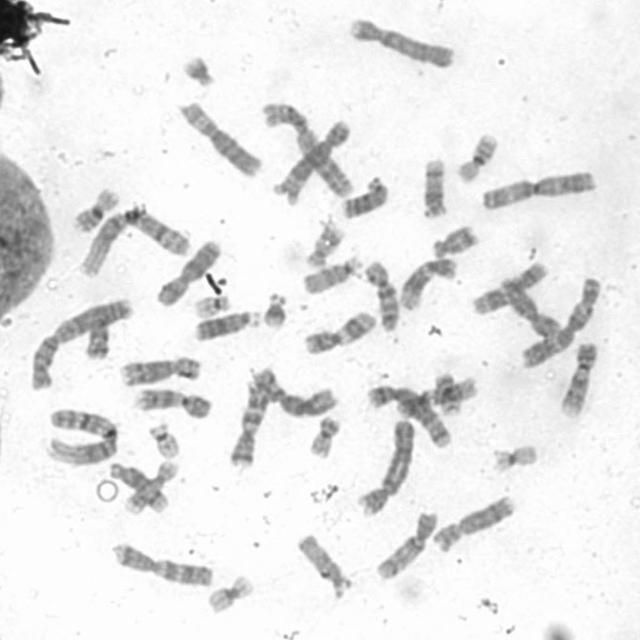A1: (73, 202, 192, 279), (42, 403, 121, 466)
A2: (26, 293, 135, 392), (258, 97, 356, 199)
A3: (517, 271, 604, 369), (476, 163, 600, 212)
B4: (344, 12, 458, 71), (354, 414, 417, 517)
B5: (271, 111, 356, 202), (362, 378, 454, 449)
C10: (371, 504, 442, 582), (358, 254, 402, 334)
C11: (468, 256, 550, 316), (300, 304, 380, 356)
C12: (393, 370, 481, 420), (396, 252, 461, 311)
C6: (176, 94, 266, 178), (247, 364, 341, 419)
C7: (224, 362, 279, 470), (107, 537, 216, 588)
C8: (429, 490, 519, 554), (116, 350, 204, 388)
C9: (556, 336, 601, 418), (130, 382, 213, 420)
D13: (190, 304, 263, 342), (337, 170, 391, 220)
D14: (104, 458, 171, 514), (419, 153, 450, 220)
D15: (293, 528, 350, 598), (298, 248, 366, 296)
E16: (68, 182, 122, 234), (453, 127, 501, 184)
E17: (119, 455, 182, 516), (300, 217, 346, 269)
E18: (428, 220, 481, 260), (85, 309, 109, 365)
F19: (202, 568, 256, 616), (486, 437, 541, 474)
F20: (304, 409, 344, 458), (429, 367, 464, 417)
G21: (178, 49, 218, 89), (257, 286, 290, 331)
G22: (145, 418, 183, 460), (190, 290, 233, 317)
X: (153, 233, 223, 308), (496, 270, 563, 340)
